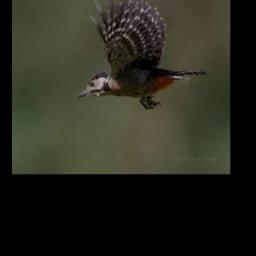Woodpecker: (73, 0, 206, 108)
